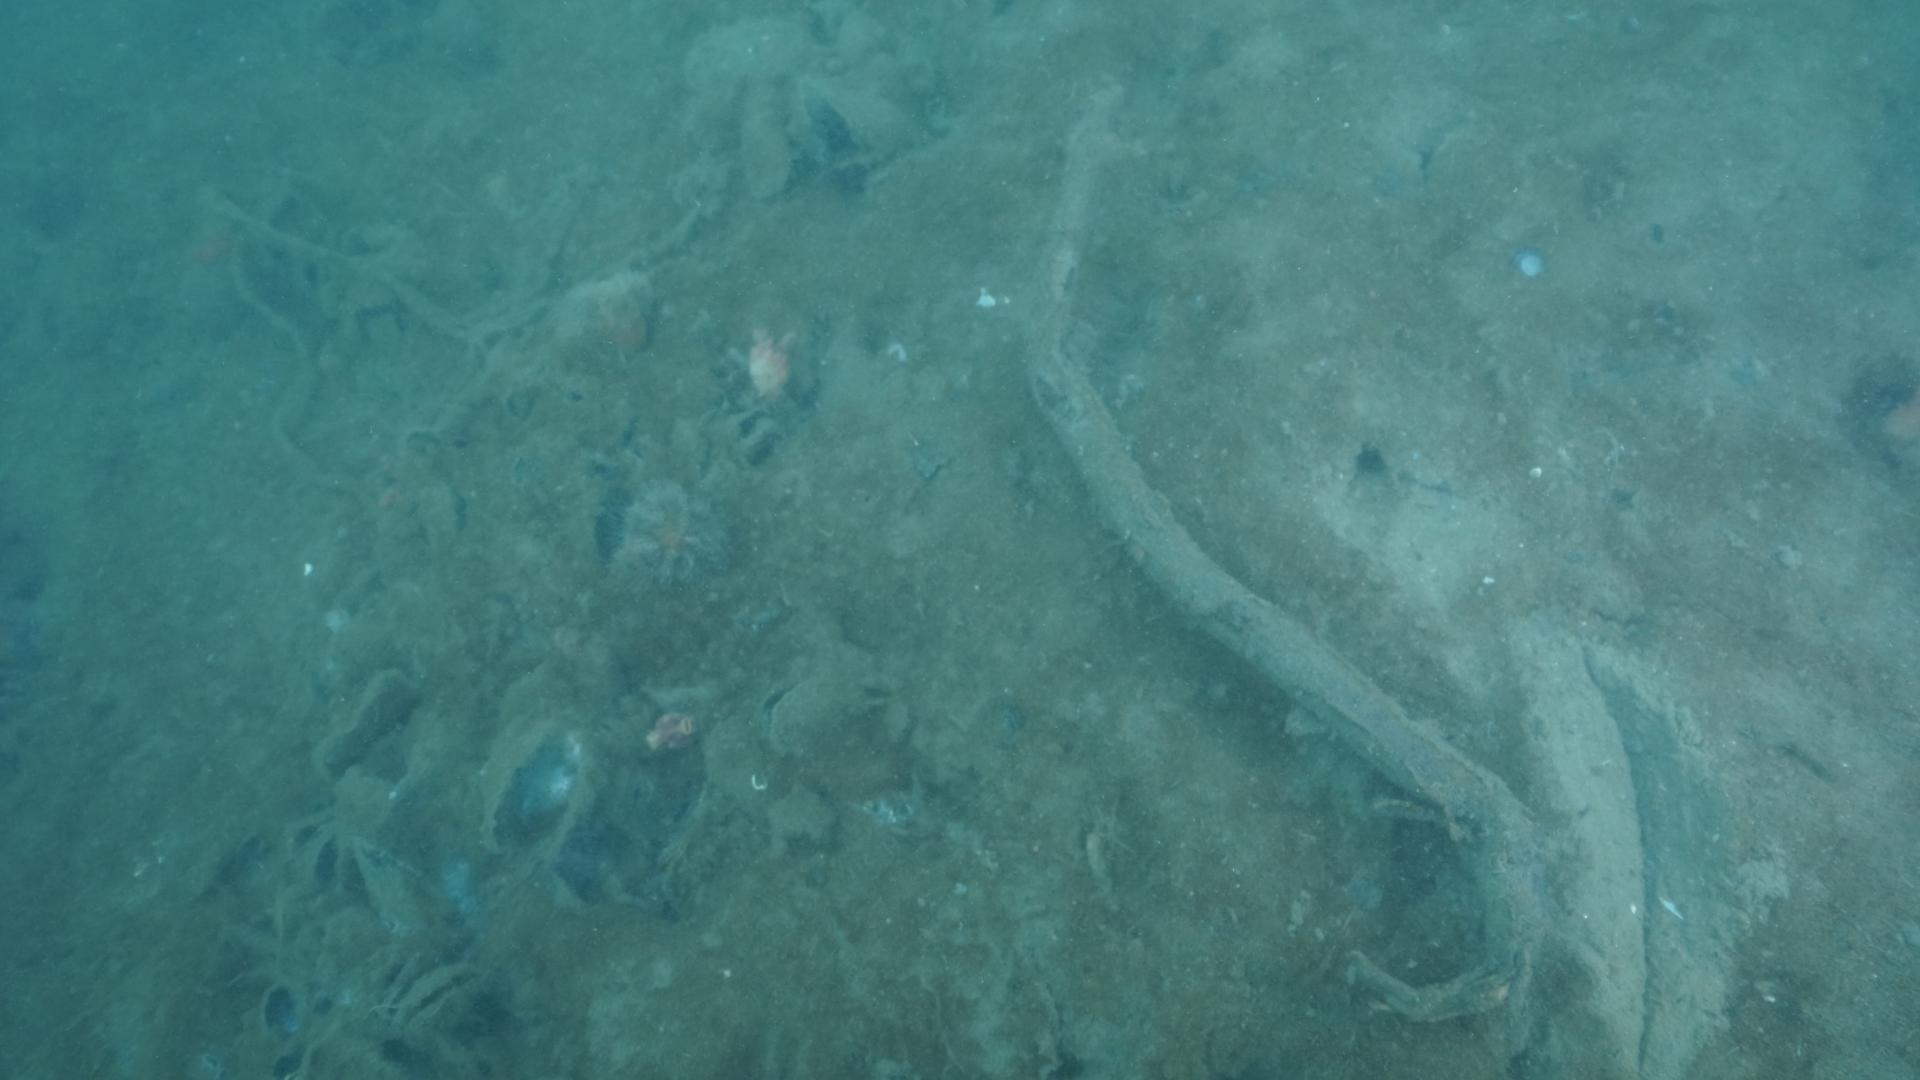wood: (1021, 69, 1791, 1080)
